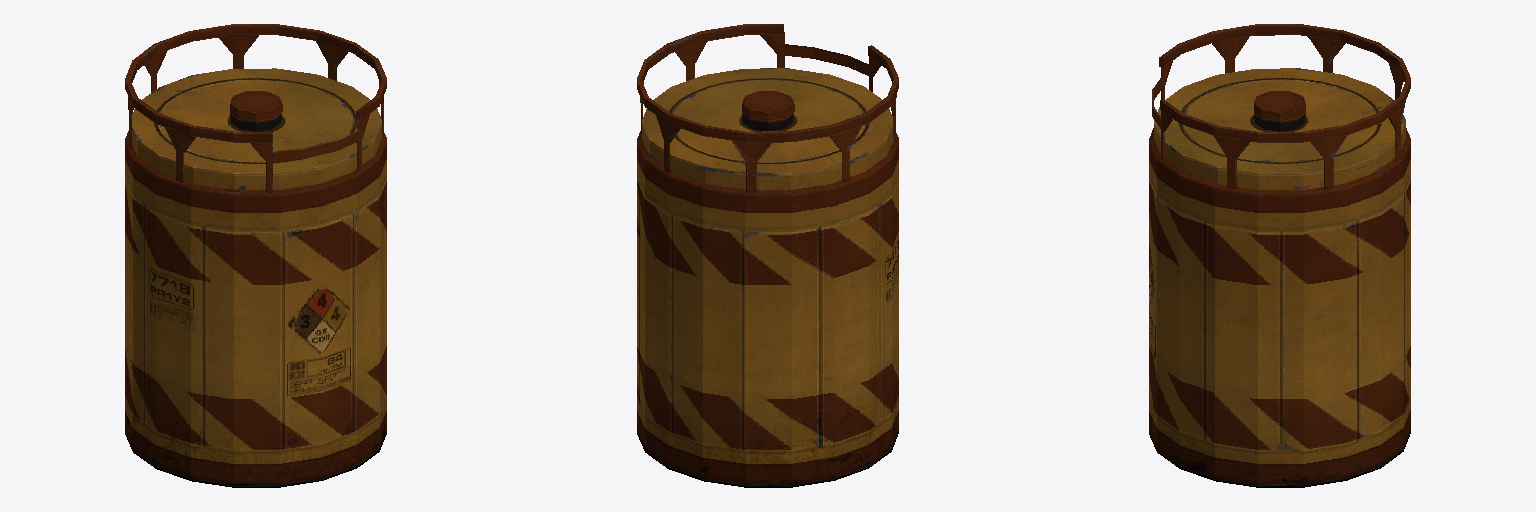
3 views of the same model, side by side, from view 1: azimuth 30°, elevation 25°; view 2: azimuth 150°, elevation 25°; view 3: azimuth 270°, elevation 25° (orthographic).
Bounding box in the file's own units: 1.18 × 1.78 × 1.19.
Materials: 1 (1 with a texture image).